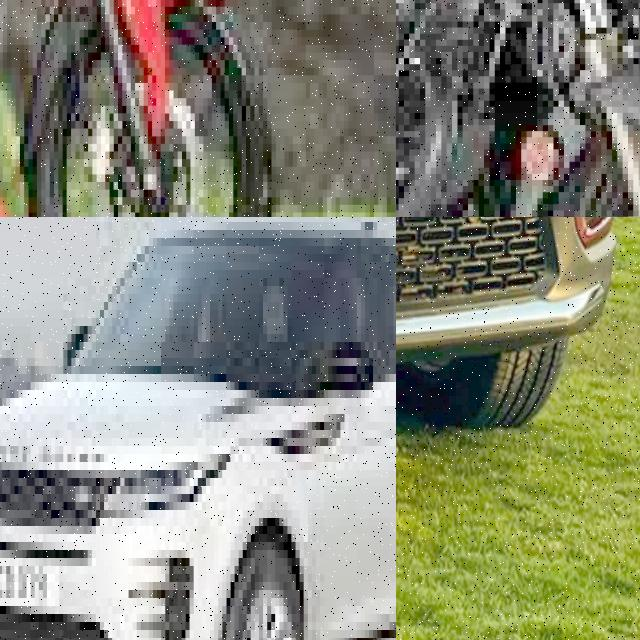bike: (0, 0, 318, 217), (396, 0, 640, 217)
car: (0, 217, 396, 640), (396, 217, 629, 470)
